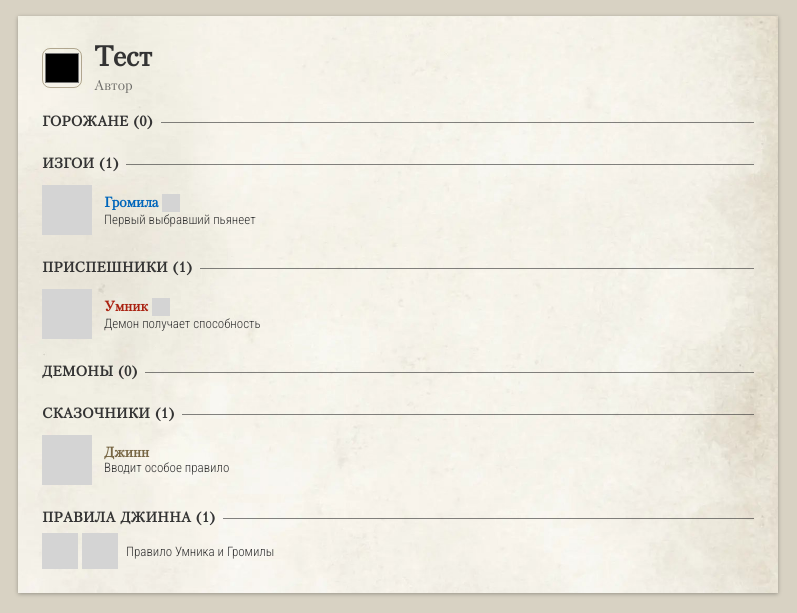
Test: Script › убирает Джинна, когда джинксов больше нет
What coordinates should you click on to do the following:
click the button "Умник Демон получает способность"
I would click on:
 (216, 314)
Its box is [36,283,396,345].
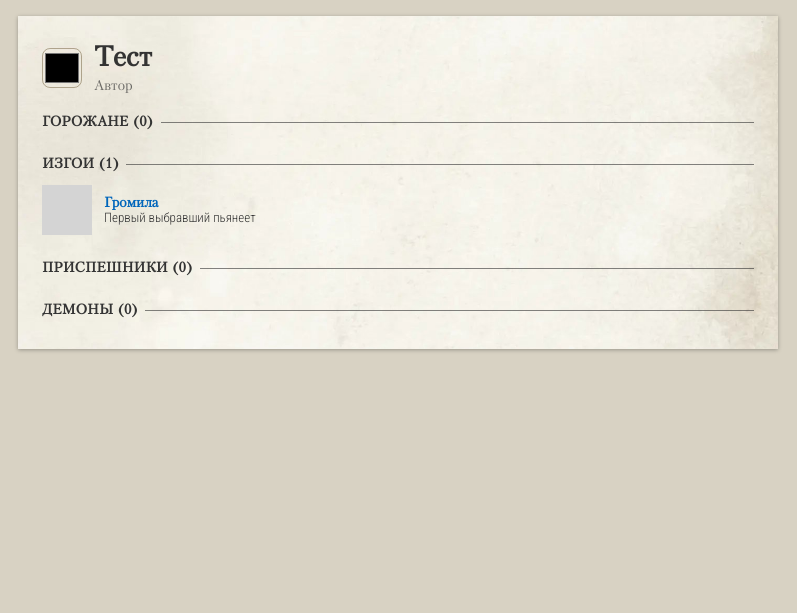
Check: the text "Джинн" is gone
Check: the heading "Правила Джинна" is gone
